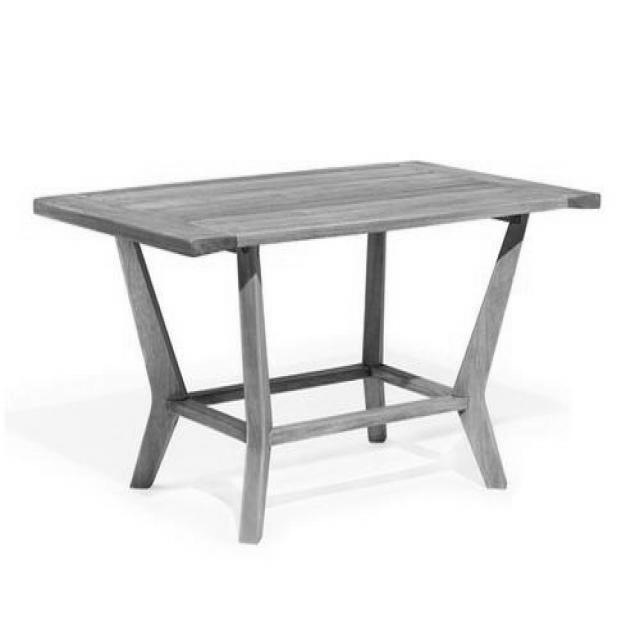table: (31, 160, 601, 544)
